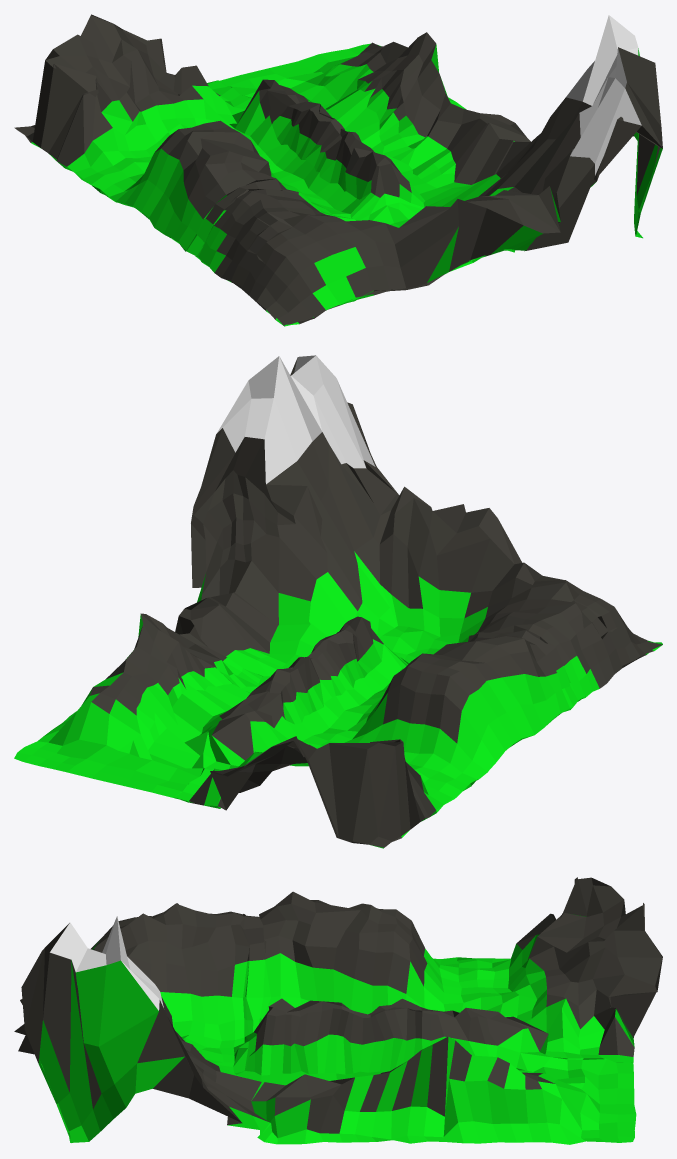
Rendered from terrain.glb.
3 renders of one model, top to bottom at view 1: azimuth 30°, elevation 25°; view 2: azimuth 150°, elevation 25°; view 3: azimuth 270°, elevation 25°, orthographic. The views are drawn at different scales.
Parts seen in each view (by area): view 1: Plane; view 2: Plane; view 3: Plane.
Part boxes in pixels (x1,y1,x2,y2): Plane: [14, 14, 662, 326]; Plane: [14, 355, 662, 848]; Plane: [14, 877, 662, 1144].
Size of the model in its own units: 57.61 by 29.35 by 77.32.
